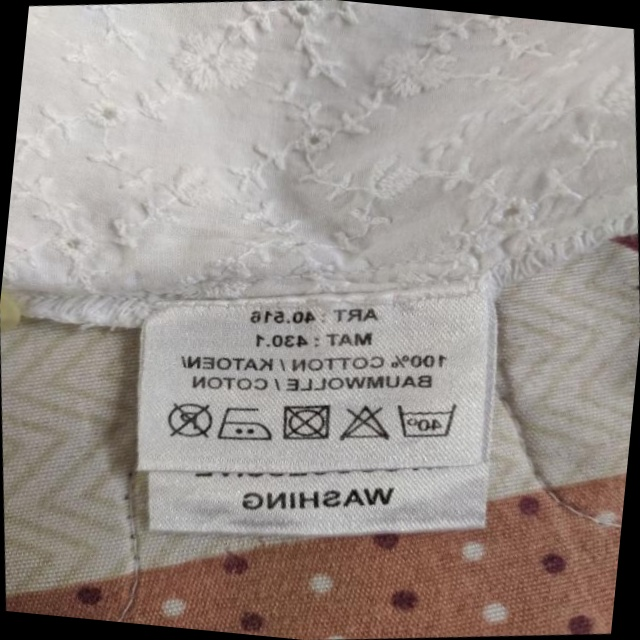40C: (392, 393, 460, 446)
DN_bleach: (336, 395, 397, 449)
DN_dry_clean: (161, 396, 217, 445)
DN_tumble_dry: (278, 398, 338, 450)
iron_medium: (213, 400, 276, 449)
